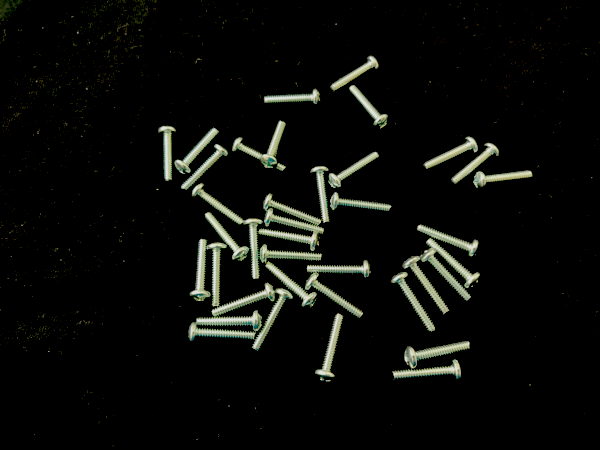longscrew: (388, 269, 438, 335), (401, 253, 450, 318), (418, 247, 472, 304), (425, 237, 482, 290), (305, 272, 364, 323), (250, 287, 293, 355), (263, 260, 320, 309), (209, 282, 278, 319), (449, 142, 502, 189), (190, 184, 247, 227), (180, 143, 229, 193), (414, 222, 482, 258), (174, 126, 220, 178), (315, 314, 347, 386), (346, 82, 392, 132), (204, 212, 248, 264), (420, 135, 480, 173), (402, 339, 474, 370), (327, 152, 381, 193), (232, 137, 289, 174), (328, 56, 381, 94), (262, 194, 322, 227), (262, 206, 327, 236), (391, 359, 464, 385), (255, 226, 323, 252), (186, 322, 259, 346), (195, 309, 265, 333), (474, 168, 536, 193), (308, 165, 333, 226), (304, 259, 373, 281), (207, 242, 229, 310), (259, 243, 321, 267), (189, 238, 211, 304), (328, 193, 396, 214), (261, 119, 288, 169), (243, 216, 264, 280), (261, 89, 324, 110), (159, 125, 179, 184)
